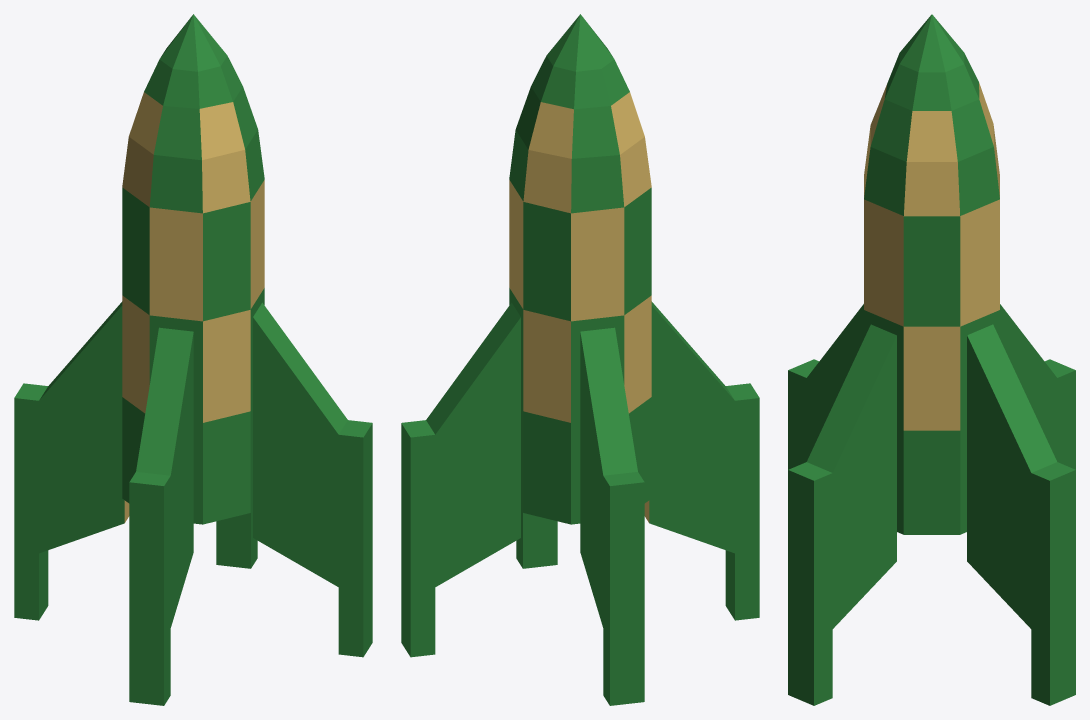
Rendered from rocket_green.fbx.
The picture shows the model from 3 angles, left to right: view 1: azimuth 30°, elevation 25°; view 2: azimuth 150°, elevation 25°; view 3: azimuth 270°, elevation 25°; orthographic projection. The views are drawn at different scales.
Visible parts, largest first — view 1: Rocket.Green; view 2: Rocket.Green; view 3: Rocket.Green.
Boxes of the visible parts, box(x1,y1,x2,y2) form: Rocket.Green: box(14, 14, 372, 705); Rocket.Green: box(401, 14, 759, 705); Rocket.Green: box(788, 14, 1075, 705).
Size of the model in its own units: 97.73 by 236 by 97.73.
